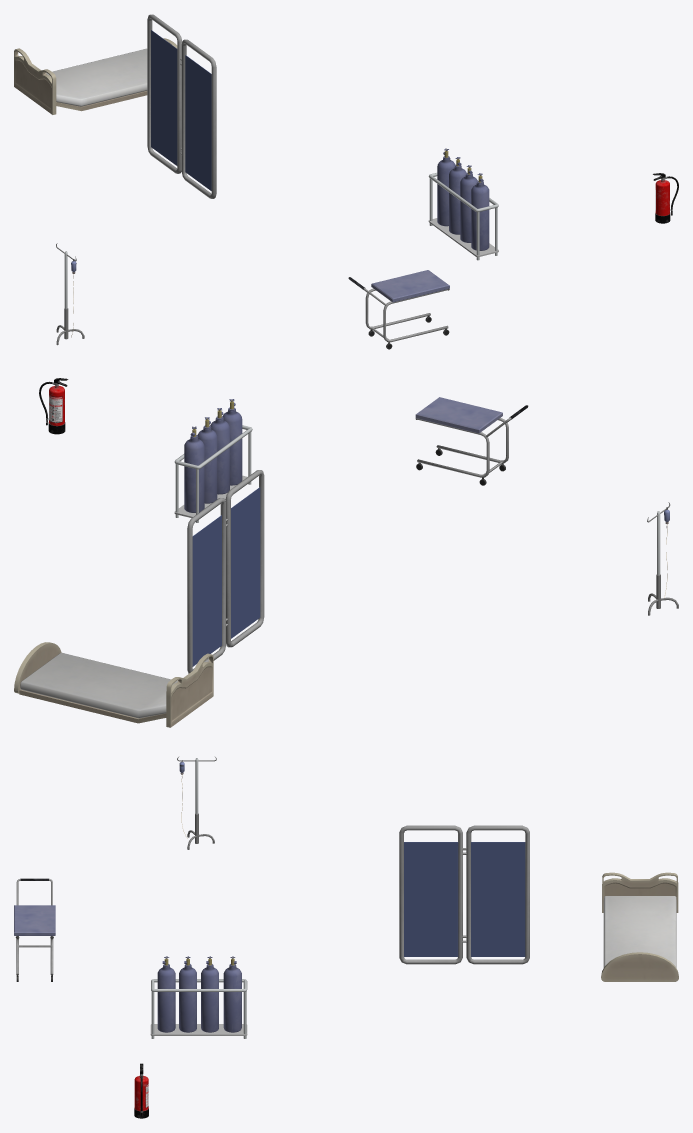
Rendered from Loc2_Medical_center.fbx.
The picture shows the model from 3 angles, top to bottom: view 1: azimuth 30°, elevation 25°; view 2: azimuth 150°, elevation 25°; view 3: azimuth 270°, elevation 25°; orthographic projection. The views are drawn at different scales.
Parts seen in each view (by area): view 1: Curtain, Bed, OxygenTube, FoodTable, Fire_Extinguisher, IvPole; view 2: Curtain, Bed, OxygenTube, FoodTable, Fire_Extinguisher, IvPole; view 3: Curtain, Bed, OxygenTube, FoodTable, Fire_Extinguisher, IvPole.
Boxes of the visible parts, left/top/right/bottom form: Curtain: left=147, top=14, right=216, bottom=198; Bed: left=14, top=38, right=177, bottom=114; OxygenTube: left=428, top=148, right=498, bottom=260; FoodTable: left=348, top=270, right=449, bottom=349; Fire_Extinguisher: left=653, top=173, right=678, bottom=223; IvPole: left=56, top=243, right=84, bottom=345; Curtain: left=187, top=470, right=264, bottom=673; Bed: left=14, top=642, right=213, bottom=727; OxygenTube: left=174, top=399, right=252, bottom=522; FoodTable: left=415, top=397, right=528, bottom=485; Fire_Extinguisher: left=39, top=378, right=68, bottom=434; IvPole: left=647, top=502, right=678, bottom=615; Curtain: left=399, top=825, right=529, bottom=964; Bed: left=601, top=872, right=678, bottom=981; OxygenTube: left=150, top=956, right=247, bottom=1038; FoodTable: left=14, top=878, right=55, bottom=981; Fire_Extinguisher: left=134, top=1063, right=148, bottom=1118; IvPole: left=177, top=756, right=216, bottom=849.
Size of the model in its own units: 993 by 224 by 974.
7 materials, 7 textured.
